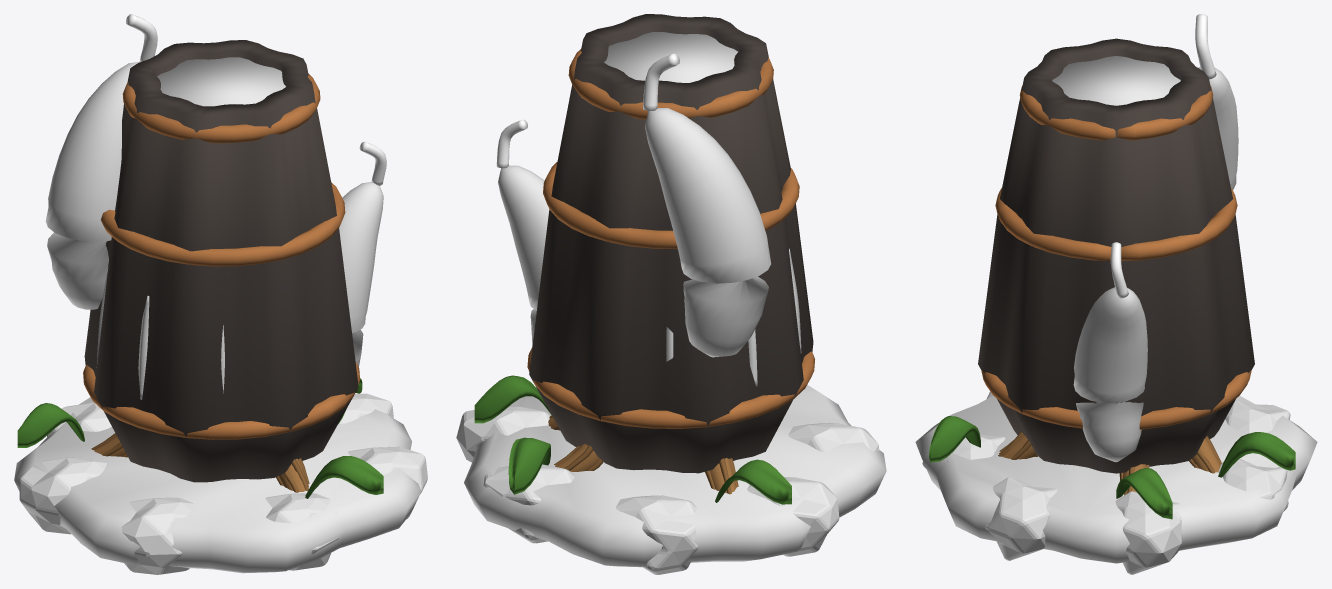
The model's file is chili-1.fbx.
3 views of the same model, side by side, from view 1: azimuth 30°, elevation 25°; view 2: azimuth 150°, elevation 25°; view 3: azimuth 270°, elevation 25° (orthographic). The views are drawn at different scales.
Parts seen in each view (by area): view 1: Turret_Metal, EarthBed, Pods_PortalPeel, chili-1_Stone, Core_Glow, chili-1_PortalBamboo, Pods_PortalBamboo, chili-1_Bark; view 2: Turret_Metal, EarthBed, Pods_PortalPeel, chili-1_Stone, Core_Glow, chili-1_PortalBamboo, chili-1_Bark, Pods_PortalBamboo; view 3: Turret_Metal, EarthBed, Pods_PortalPeel, chili-1_Stone, chili-1_PortalBamboo, Core_Glow, chili-1_Bark, Pods_PortalBamboo.
Part boxes in pixels (x1,y1,x2,y2): Turret_Metal: [83, 40, 359, 482]; EarthBed: [14, 397, 421, 573]; Pods_PortalPeel: [45, 61, 383, 367]; chili-1_Stone: [19, 393, 427, 574]; Core_Glow: [96, 57, 285, 399]; chili-1_PortalBamboo: [17, 378, 383, 498]; Pods_PortalBamboo: [126, 14, 386, 185]; chili-1_Bark: [91, 433, 309, 492]; Turret_Metal: [527, 14, 814, 473]; EarthBed: [464, 385, 886, 567]; Pods_PortalPeel: [498, 108, 771, 357]; chili-1_Stone: [456, 406, 879, 574]; Core_Glow: [604, 32, 801, 386]; chili-1_PortalBamboo: [474, 375, 791, 504]; chili-1_Bark: [548, 415, 738, 494]; Pods_PortalBamboo: [496, 53, 679, 168]; Turret_Metal: [978, 38, 1254, 473]; EarthBed: [915, 395, 1317, 563]; Pods_PortalPeel: [1073, 67, 1238, 462]; chili-1_Stone: [922, 391, 1290, 574]; chili-1_PortalBamboo: [929, 416, 1295, 519]; Core_Glow: [1052, 56, 1180, 105]; chili-1_Bark: [998, 431, 1221, 495]; Pods_PortalBamboo: [1110, 14, 1216, 298].
Bounding box in the file's own units: 83.98 × 106 × 82.7.
